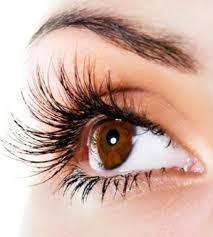pupil: (89, 118, 132, 170)
